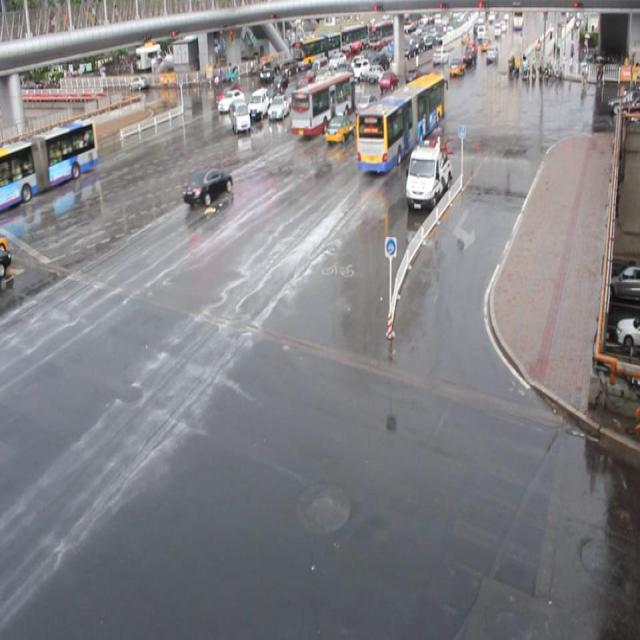bus: (403, 142, 450, 210)
car: (182, 164, 233, 206), (324, 111, 356, 143), (216, 83, 244, 105), (218, 88, 244, 111), (354, 93, 379, 116), (292, 90, 314, 116), (304, 80, 325, 106), (260, 83, 282, 107), (266, 96, 288, 119), (280, 82, 299, 106), (291, 75, 311, 97), (378, 70, 398, 90), (270, 72, 288, 94)
truck: (244, 88, 266, 120), (229, 98, 249, 132)
van: (0, 119, 99, 214), (355, 72, 444, 172), (290, 71, 356, 135)
